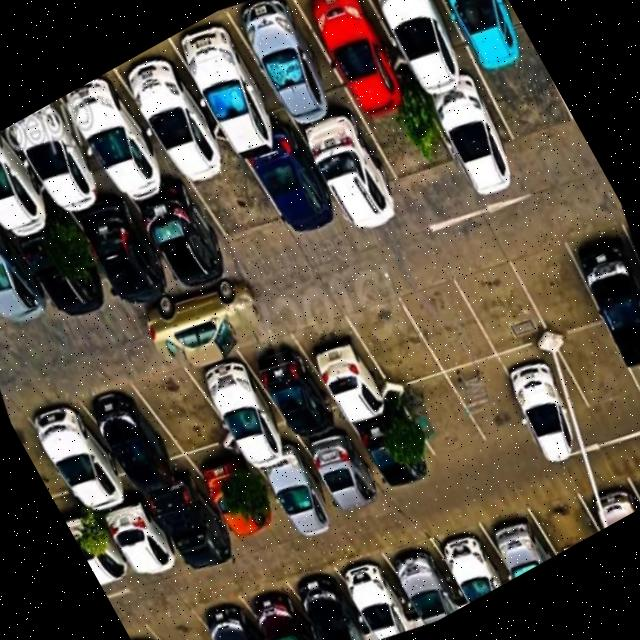Car: (115, 44, 234, 196), (179, 422, 297, 572), (301, 103, 421, 250), (168, 15, 284, 162), (16, 390, 134, 528), (222, 0, 338, 139), (67, 77, 181, 216), (424, 71, 536, 207), (296, 0, 411, 130), (0, 100, 112, 233), (238, 126, 349, 258), (69, 192, 180, 324), (192, 348, 300, 482), (5, 210, 115, 340), (128, 175, 238, 302), (78, 377, 184, 506), (495, 343, 595, 478), (136, 468, 240, 594), (562, 213, 640, 378), (244, 330, 347, 454), (355, 0, 467, 105), (259, 450, 358, 562), (299, 323, 395, 437), (309, 426, 401, 538), (88, 496, 184, 601), (61, 496, 142, 604), (229, 564, 344, 640), (353, 409, 442, 507), (422, 0, 527, 81), (335, 542, 419, 640), (476, 492, 560, 581), (383, 536, 462, 629), (428, 515, 507, 605), (290, 566, 379, 640), (0, 131, 49, 250), (191, 588, 298, 640), (574, 464, 640, 532), (0, 246, 45, 338), (126, 615, 208, 640), (626, 450, 640, 506)
Free: (478, 52, 598, 195), (439, 245, 555, 375), (190, 156, 306, 285), (378, 104, 485, 243), (339, 280, 451, 410), (396, 272, 504, 394), (390, 361, 496, 480), (537, 302, 640, 424), (500, 237, 604, 357), (432, 342, 530, 457), (140, 362, 233, 472), (521, 468, 600, 555), (141, 600, 243, 640)
